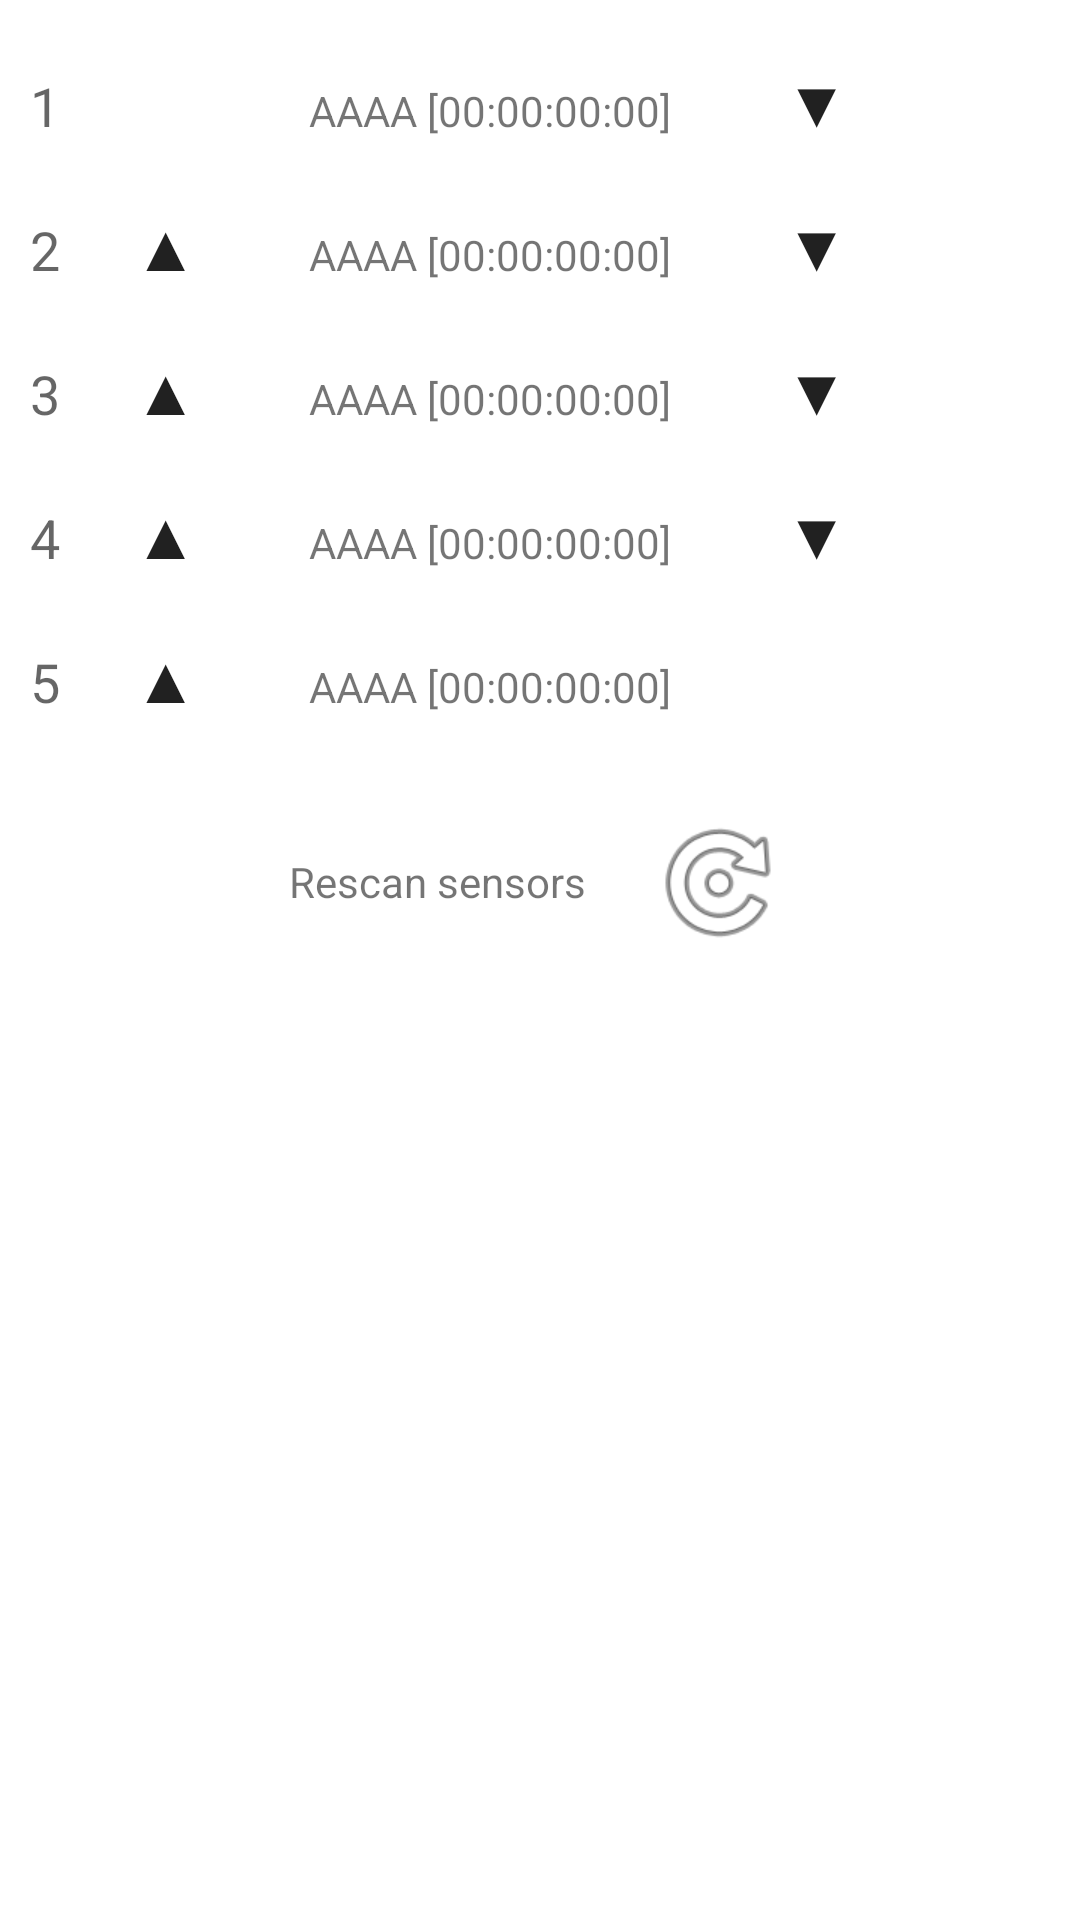

Screen size 1080 x 1920. Icon name, then its center in pixels as (x=x, y=y):
rotate: (x=718, y=883)
